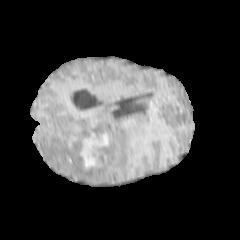glioma: (39, 107, 130, 181)
